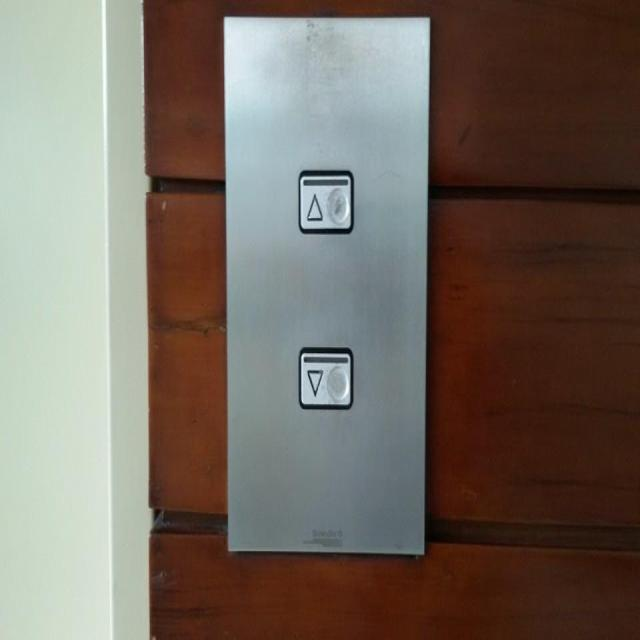down: (295, 342, 355, 412)
up: (297, 162, 357, 240)
